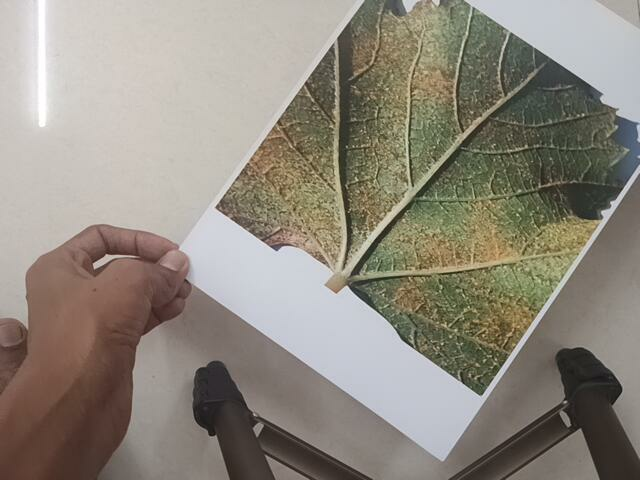Grape_Rust_Fungus: (216, 3, 630, 350)
